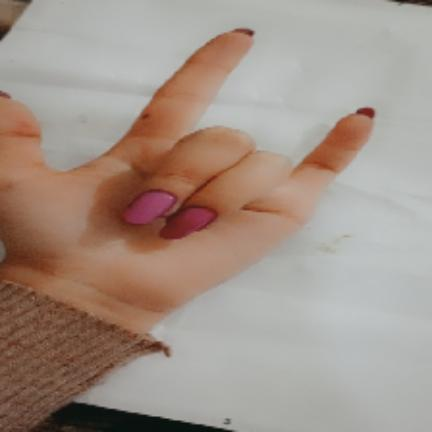Nail: (122, 190, 176, 224), (160, 208, 216, 238)
